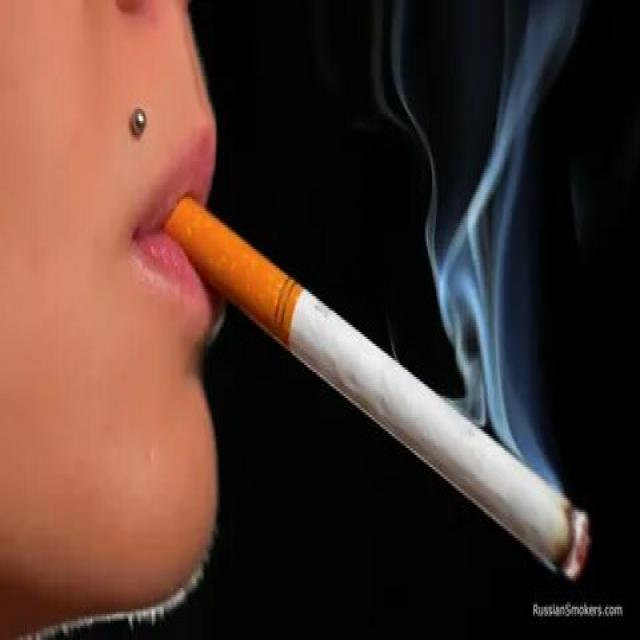cigarette: (160, 185, 593, 585)
